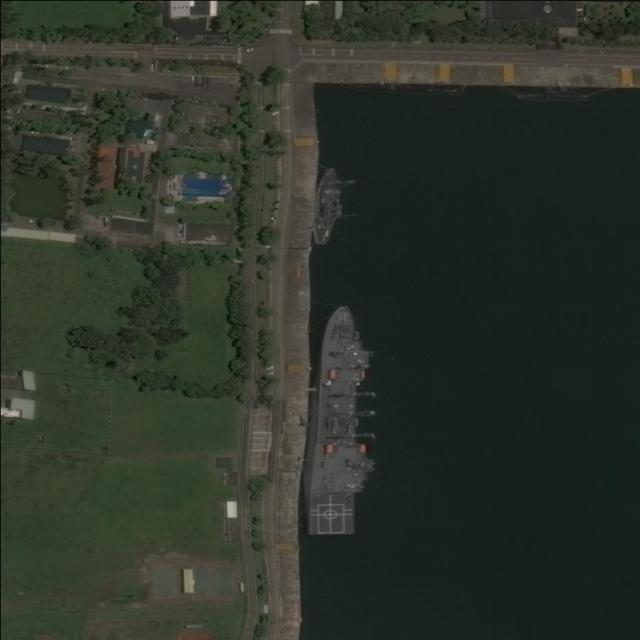Commander: (307, 305, 376, 544)
Other Warship: (314, 166, 345, 242)
